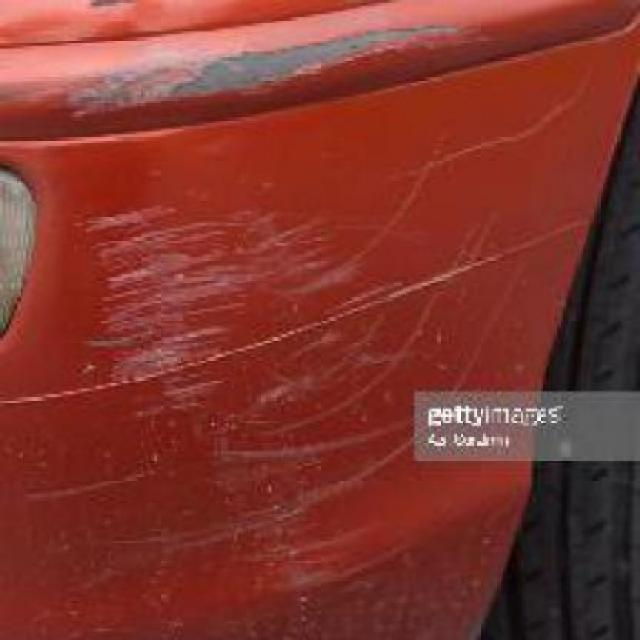dent-or-scratch: (64, 166, 420, 599)
